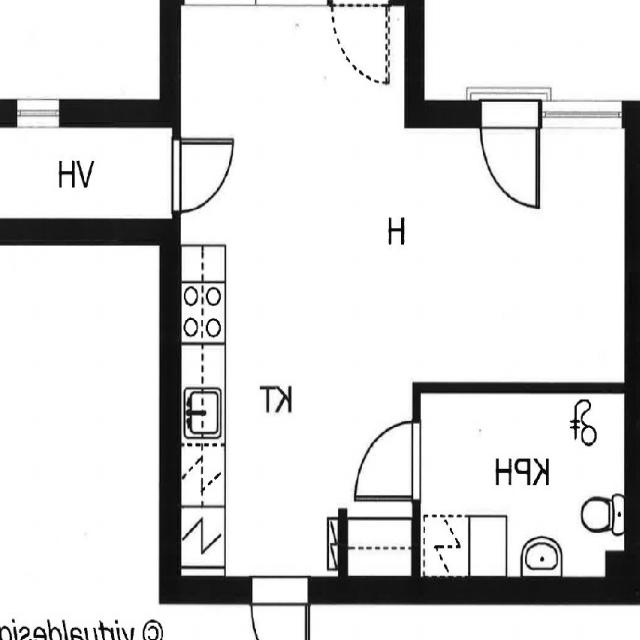door: (482, 100, 538, 205), (355, 421, 421, 498), (173, 138, 234, 211), (252, 576, 308, 640)
